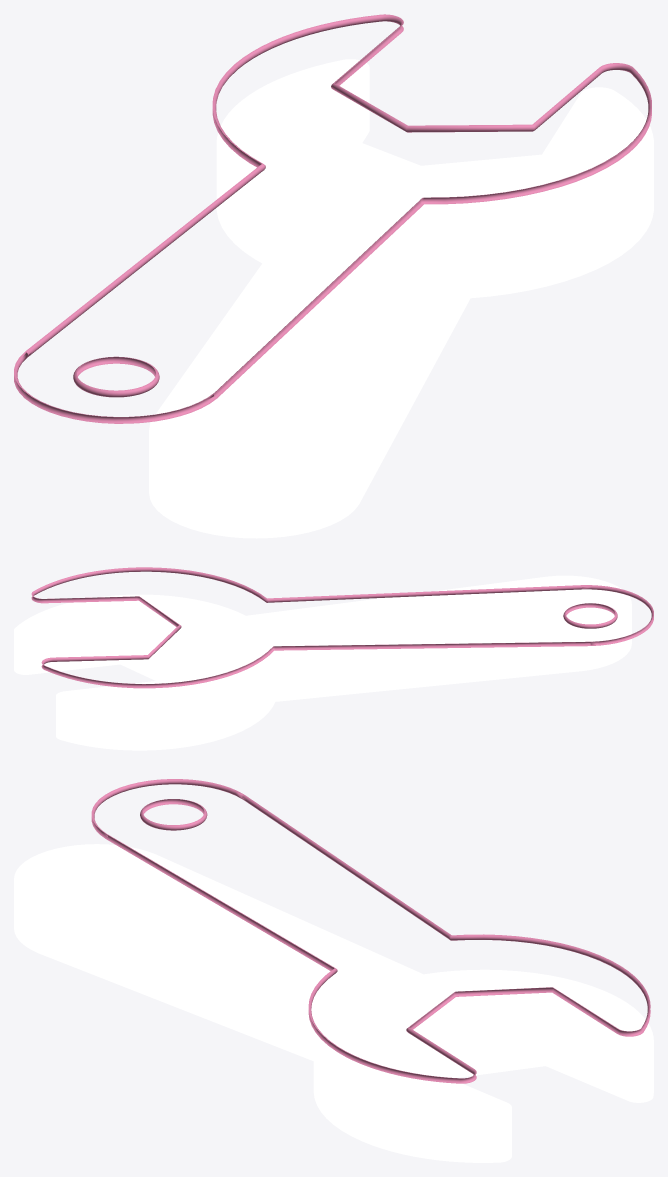
Rendered from Wrench03.gltf.
The picture shows the model from 3 angles, top to bottom: view 1: azimuth 30°, elevation 25°; view 2: azimuth 150°, elevation 25°; view 3: azimuth 270°, elevation 25°; orthographic projection. The views are drawn at different scales.
Parts seen in each view (by area): view 1: Curve.001, Curve; view 2: Curve.001, Curve; view 3: Curve.001, Curve.
Boxes of the visible parts, bbox=[...] form: Curve.001: bbox=[149, 59, 653, 538]; Curve: bbox=[14, 14, 651, 423]; Curve.001: bbox=[14, 575, 631, 750]; Curve: bbox=[31, 567, 653, 688]; Curve.001: bbox=[14, 844, 653, 1162]; Curve: bbox=[91, 779, 650, 1083].
Size of the model in its own units: 6.39 by 0.8109 by 5.73.
